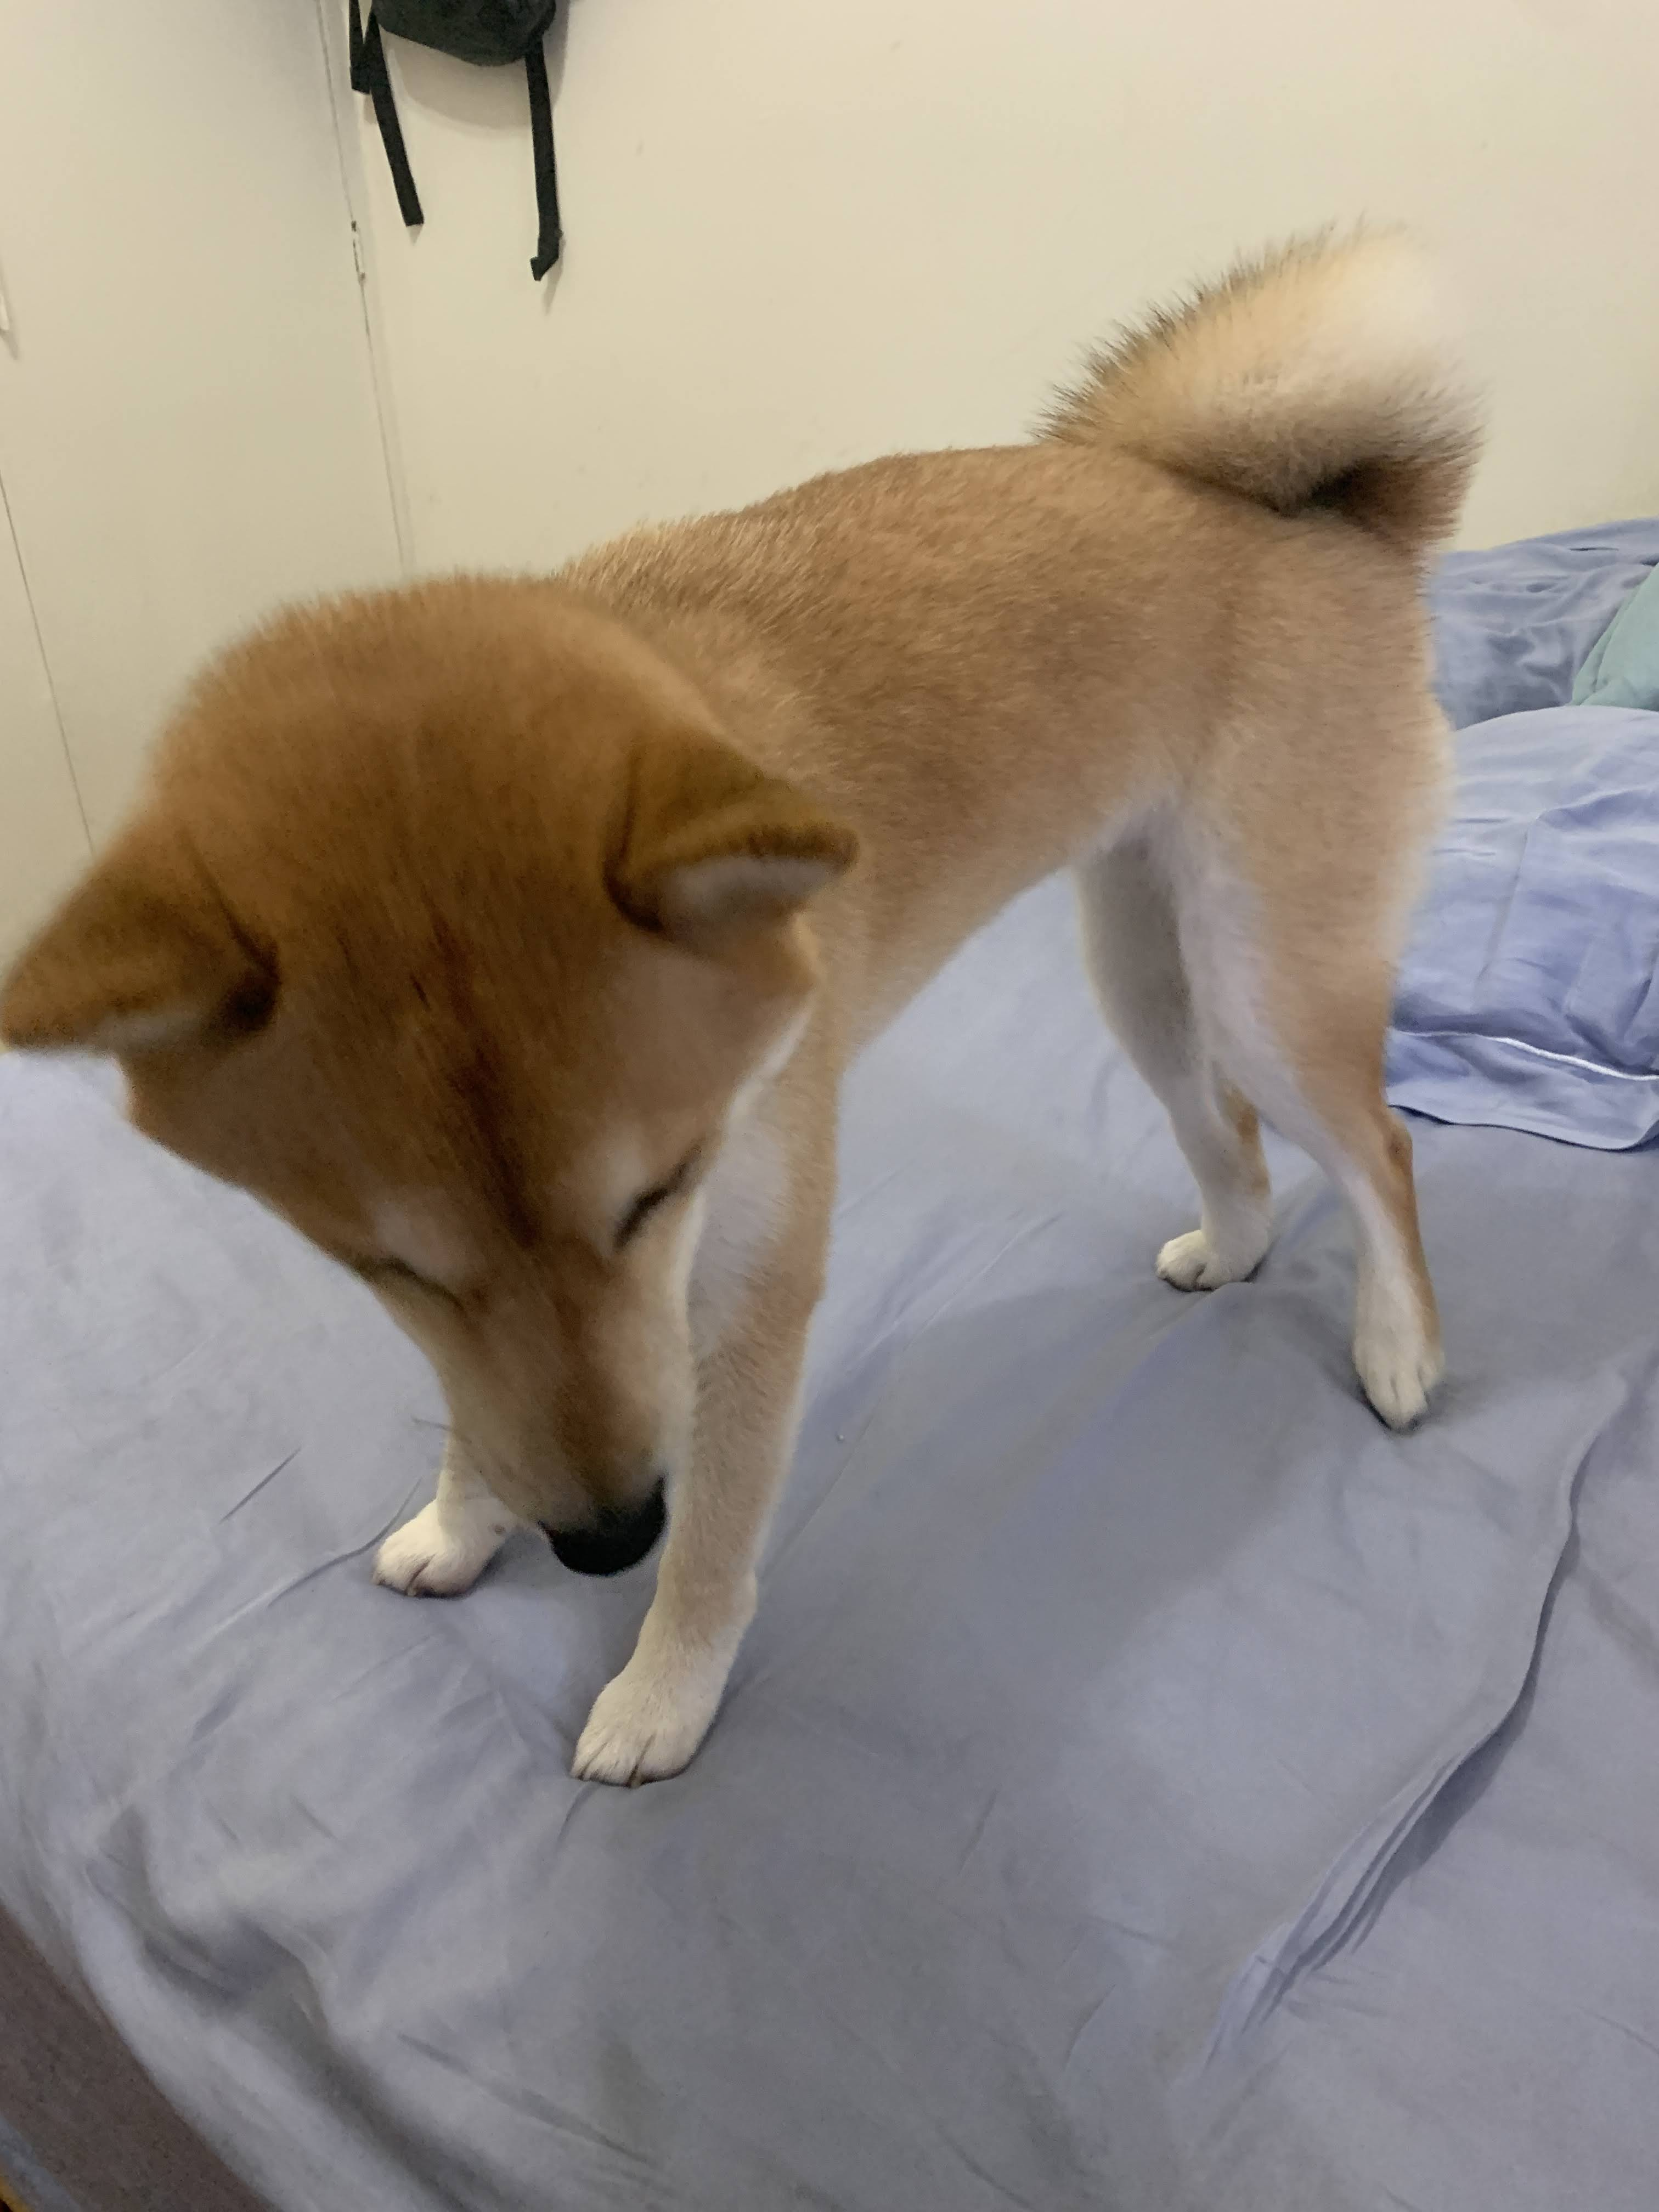Stand up: (0, 223, 1610, 1811)
